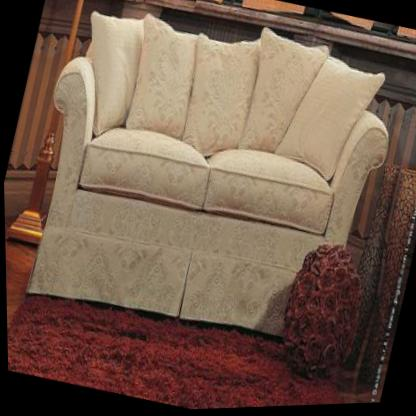Sofa: (3, 0, 416, 374)
